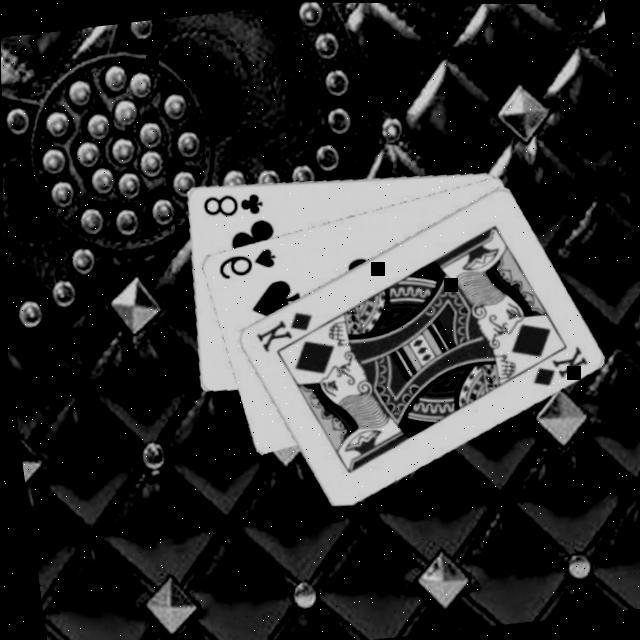6S: (213, 241, 280, 281)
8C: (199, 184, 267, 221)
KD: (250, 305, 320, 354), (524, 339, 594, 388)
